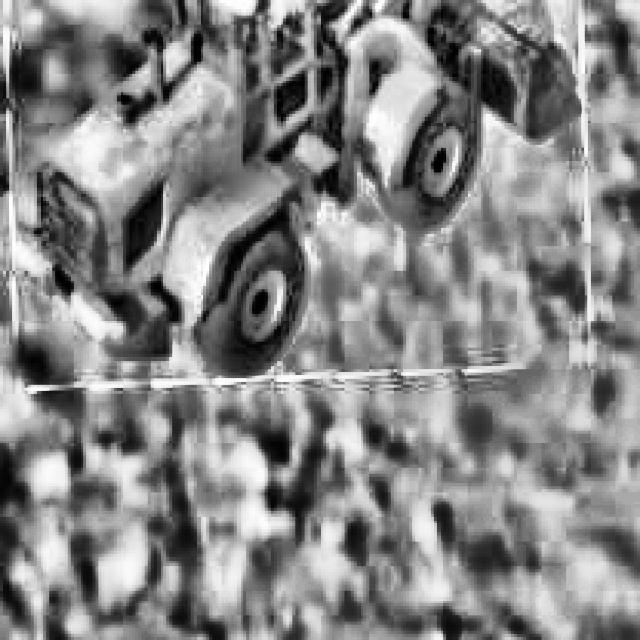buldozerpayloadergrader: (0, 0, 584, 375)
